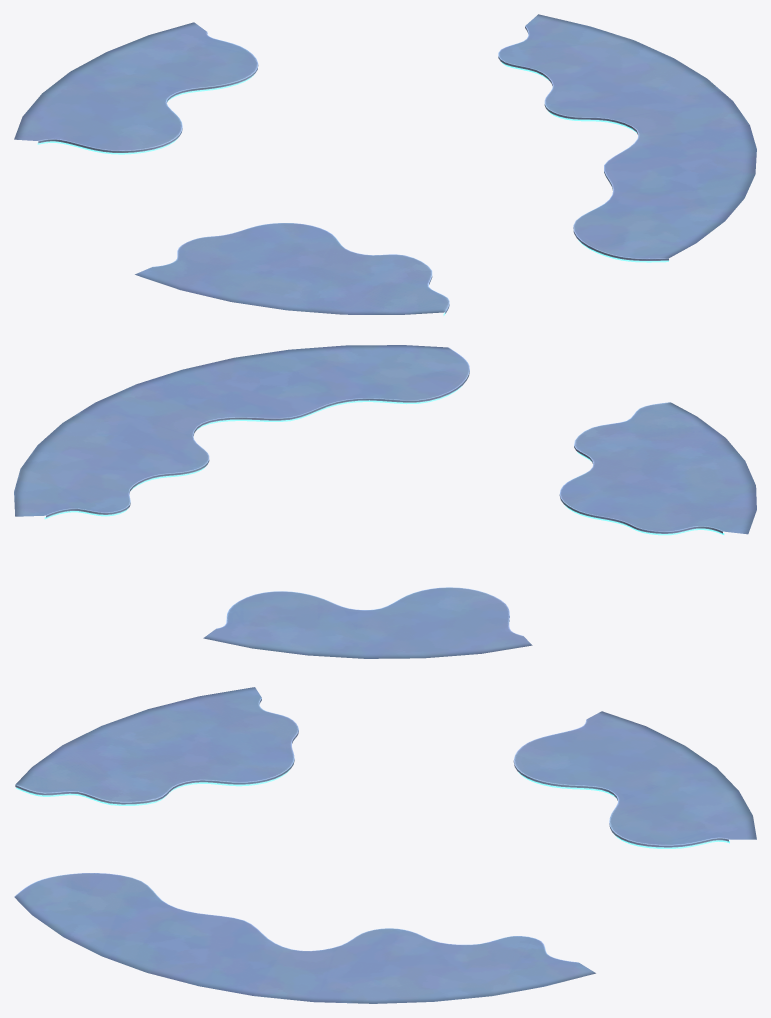
File: obj_floor01.gltf
3 views of the same model, one above another, from view 1: azimuth 30°, elevation 25°; view 2: azimuth 150°, elevation 25°; view 3: azimuth 270°, elevation 25° (orthographic). The views are drawn at different scales.
Visible parts, largest first — view 1: obj_floor01; view 2: obj_floor01; view 3: obj_floor01.
Boxes of the visible parts, box(x1,y1,x2,y2) form: obj_floor01: box(14, 14, 756, 315); obj_floor01: box(14, 345, 756, 658); obj_floor01: box(14, 687, 756, 1003).
Size of what is drawn, in the model's own units: 22.67 by 0.15 by 22.46.
2 materials, 2 textured.
